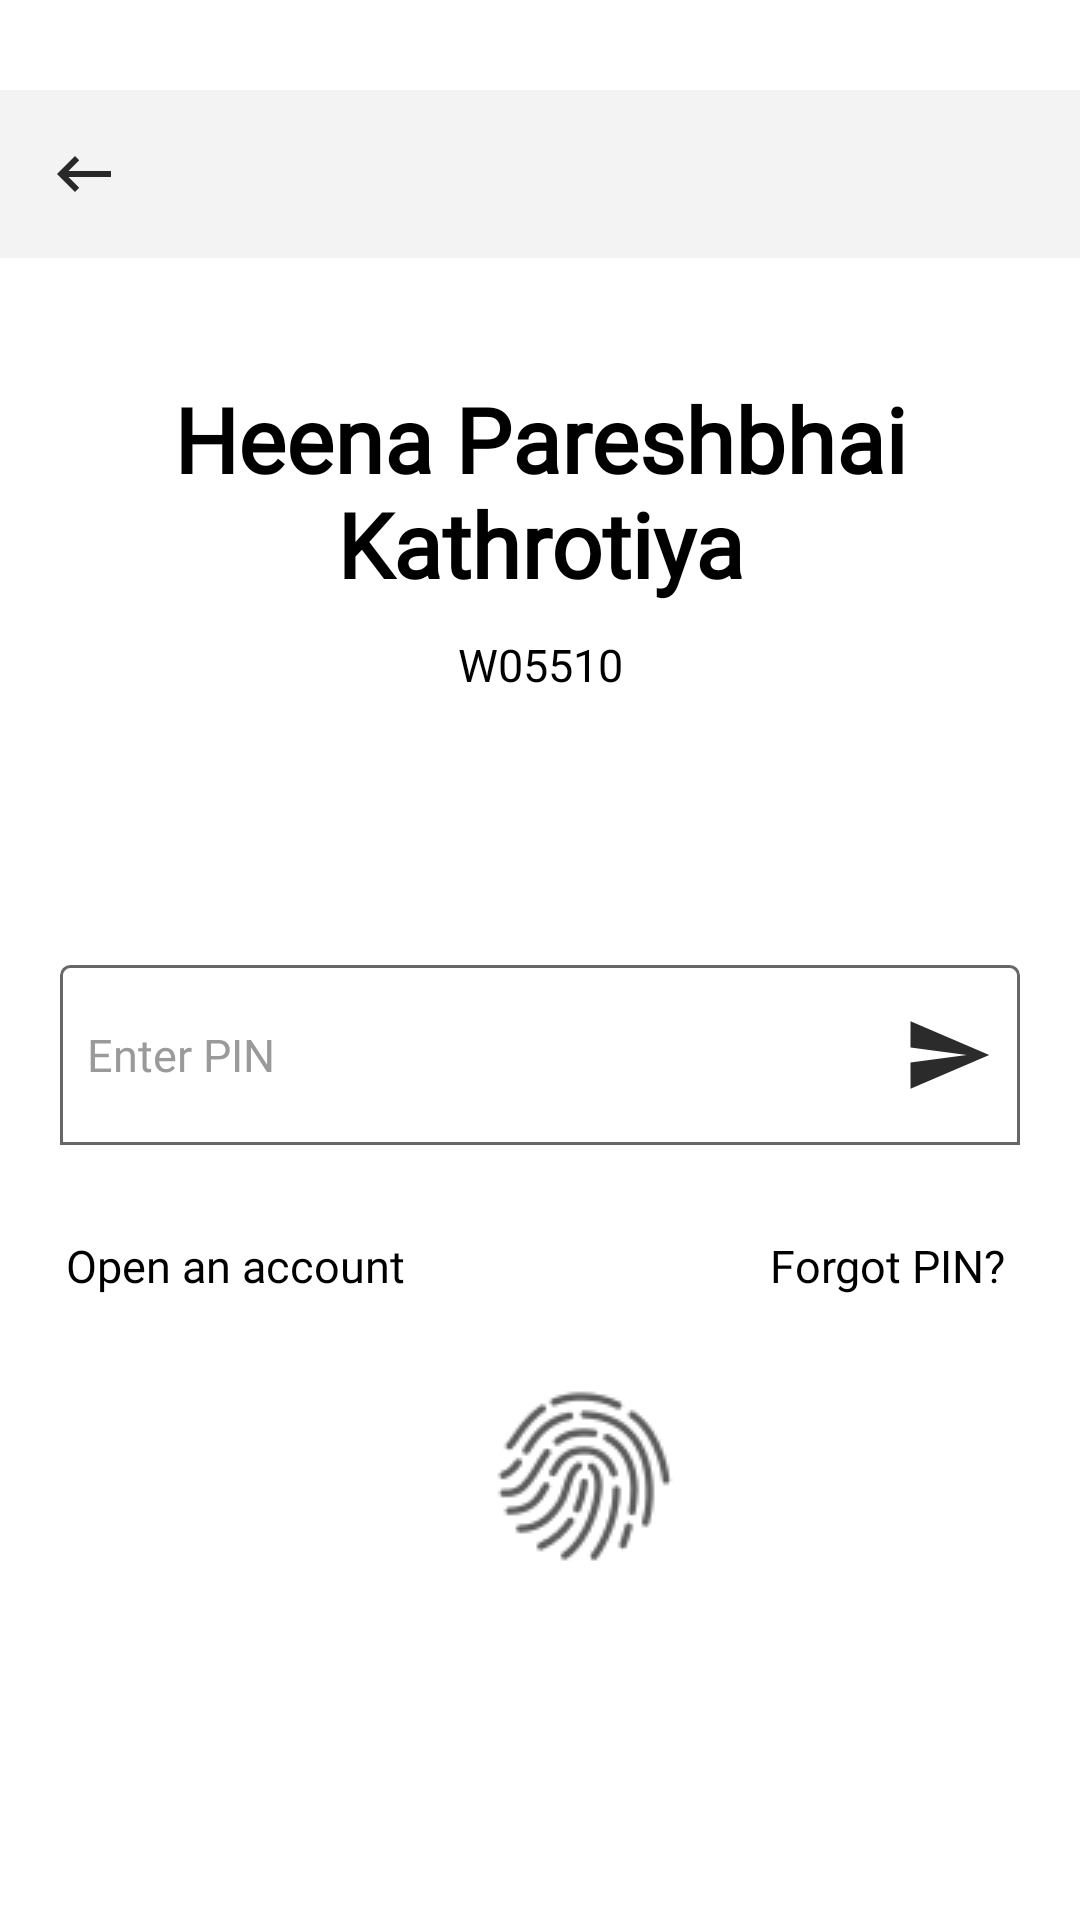

Named icons in this screenshot (1080px x 1920px) and their centers, (x,y):
fingerprint: (584,1476)
